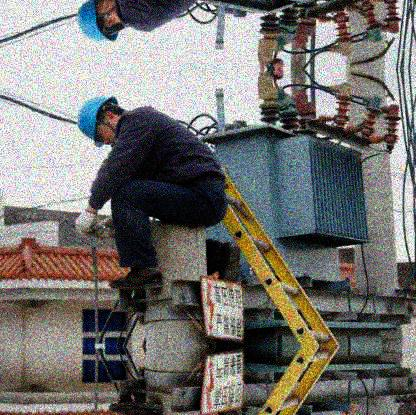helmet: (75, 1, 126, 44), (77, 96, 120, 147)
